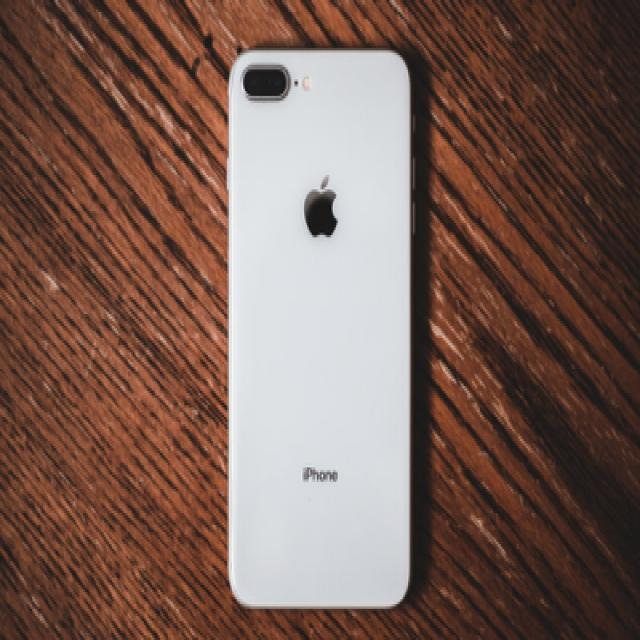cellphone: (225, 45, 412, 609)
